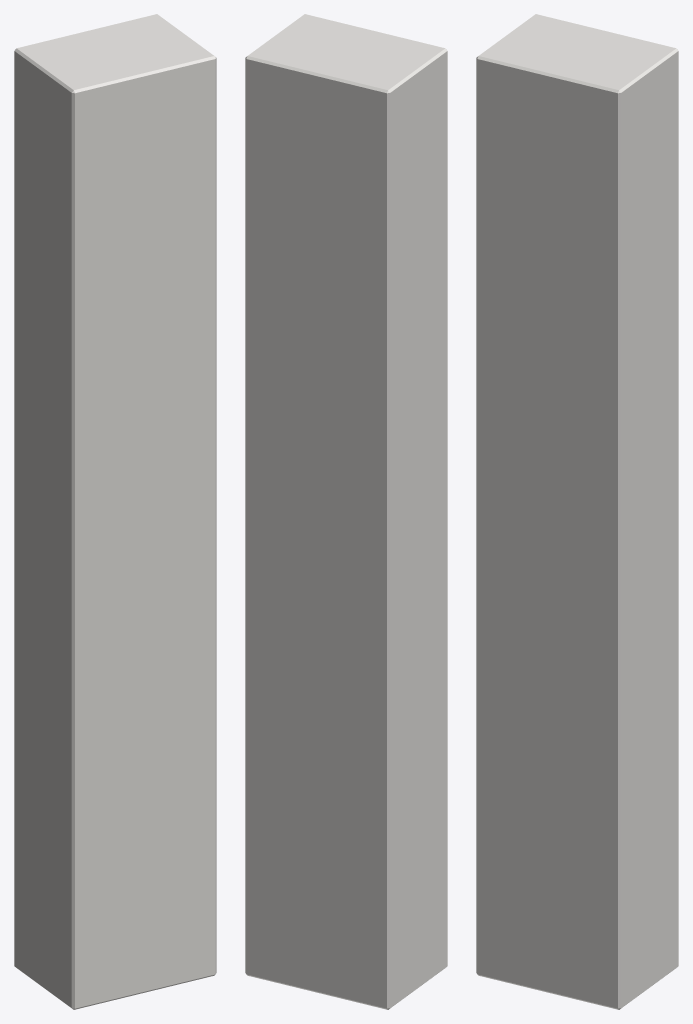
The model's file is Pillar.glb.
3 views of the same model, side by side, from view 1: azimuth 30°, elevation 25°; view 2: azimuth 150°, elevation 25°; view 3: azimuth 330°, elevation 25° (orthographic).
Parts seen in each view (by area): view 1: Pillar; view 2: Pillar; view 3: Pillar.
Boxes of the visible parts, box(x1,y1,x2,y2) form: Pillar: box(14, 14, 216, 1009); Pillar: box(245, 14, 447, 1009); Pillar: box(476, 14, 678, 1009).
Bounding box in the file's own units: 0.42 × 2.55 × 0.3.
1 material, 1 textured.
